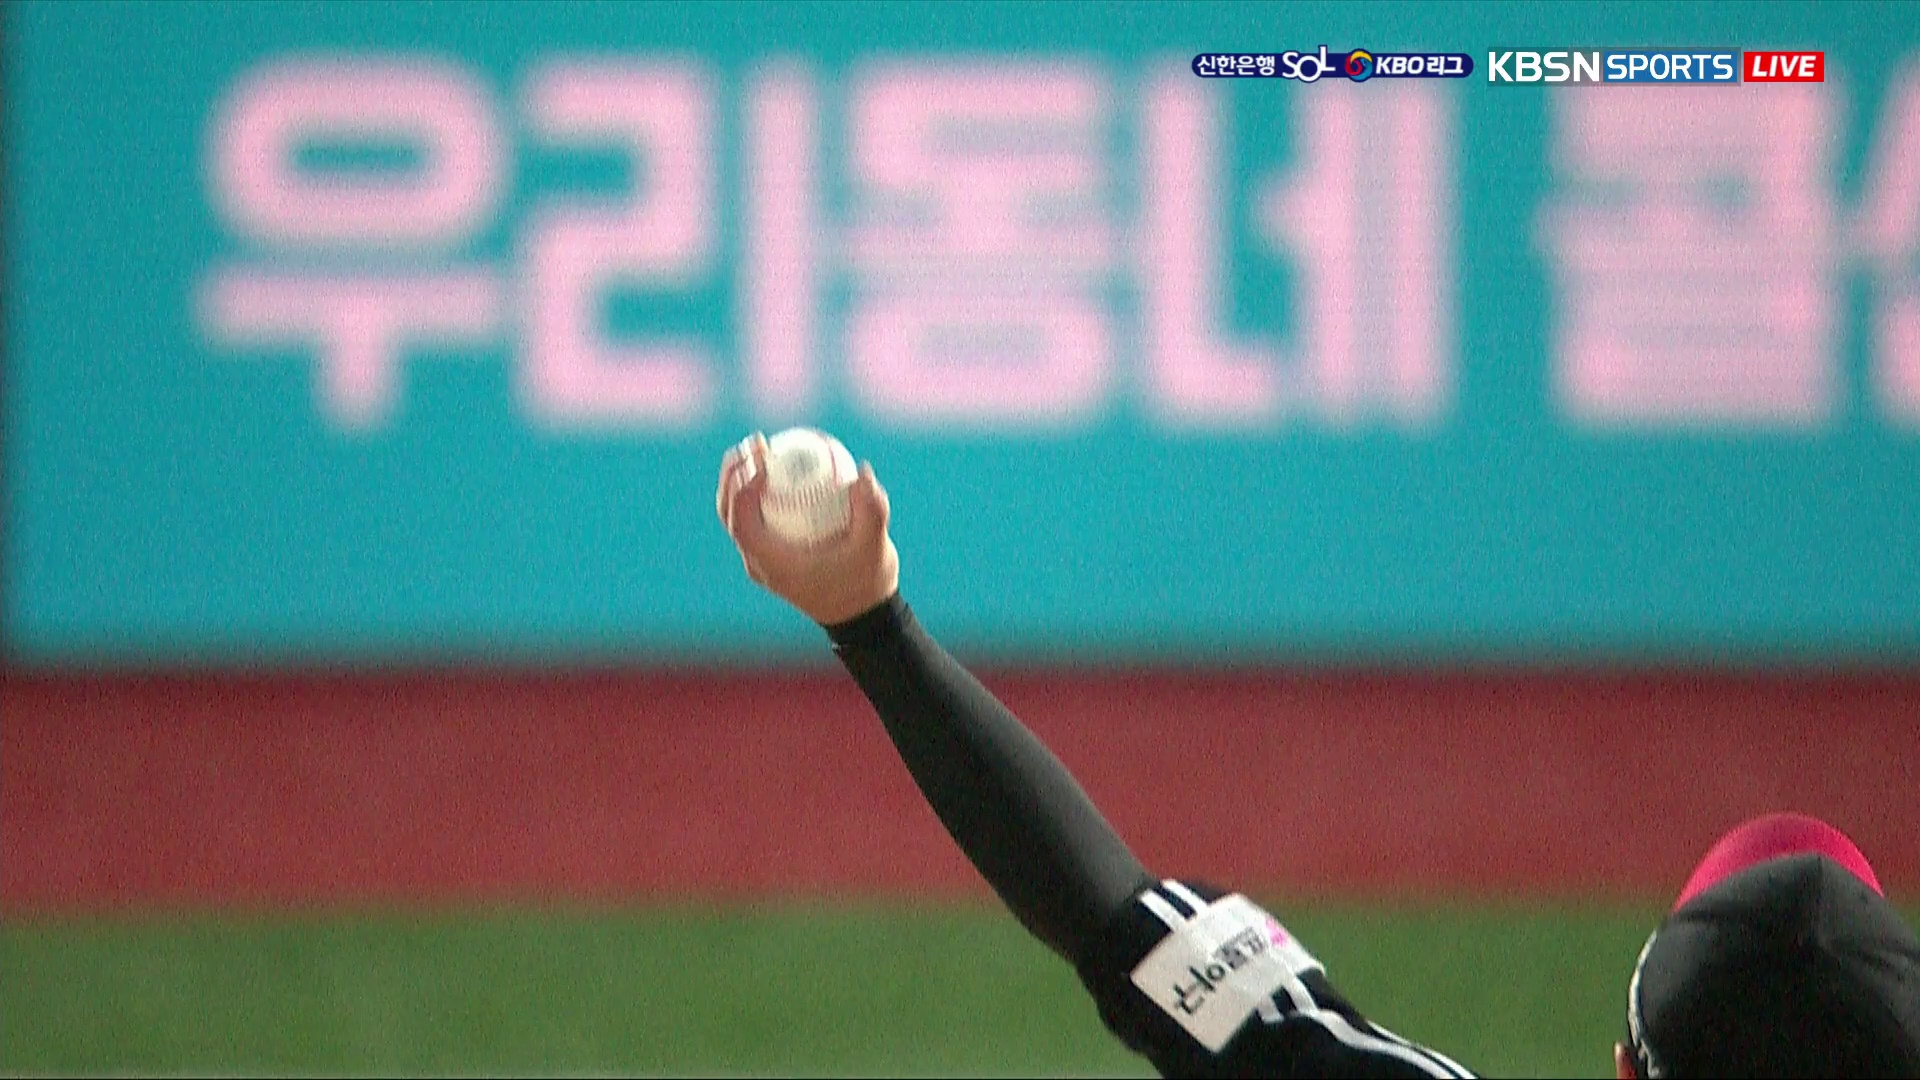zoomin_hand: (707, 421, 1215, 1018)
